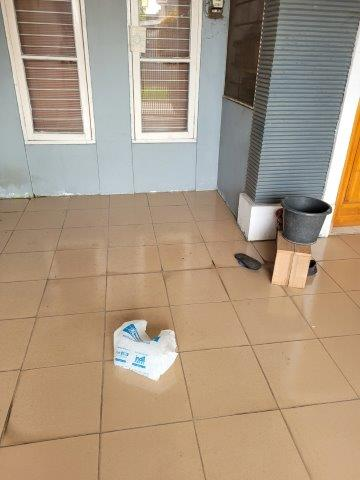plastik: (112, 318, 178, 384)
